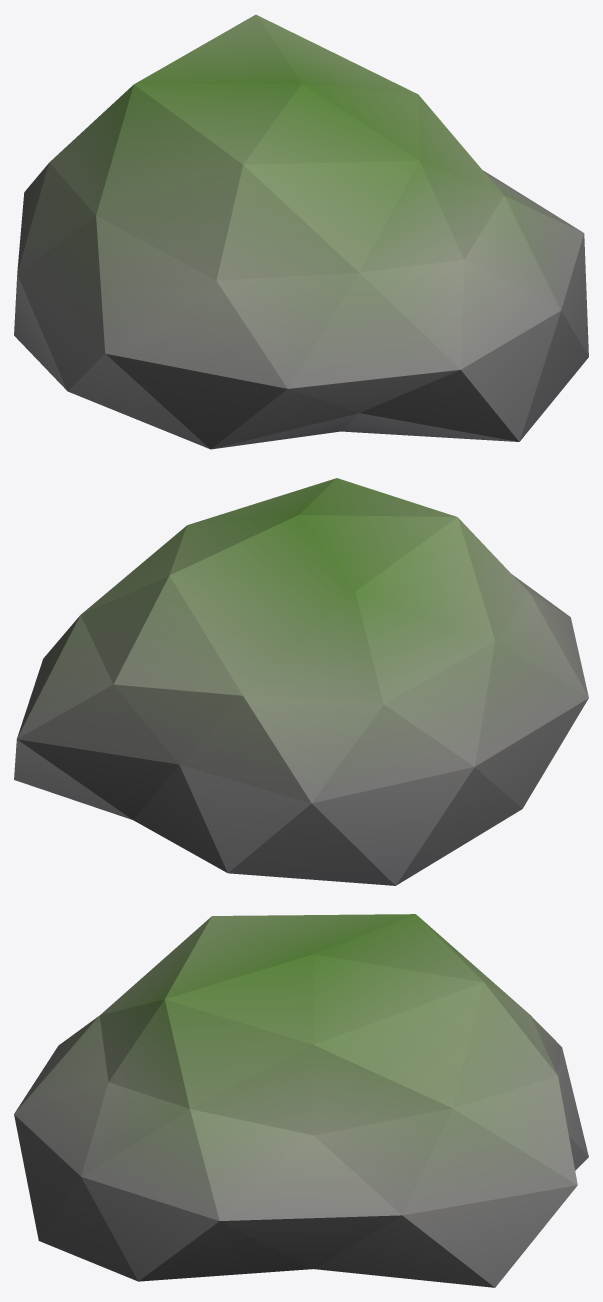
Rendered from f_rock5.glb.
3 renders of one model, top to bottom at view 1: azimuth 30°, elevation 25°; view 2: azimuth 150°, elevation 25°; view 3: azimuth 270°, elevation 25°, orthographic. The views are drawn at different scales.
Parts seen in each view (by area): view 1: rock5; view 2: rock5; view 3: rock5.
Boxes of the visible parts, x1,y1,x2,y2 form: rock5: (14,14,588,449); rock5: (14,478,588,885); rock5: (14,914,588,1287).
Size of the model in its own units: 1.75 by 0.9782 by 1.92.
